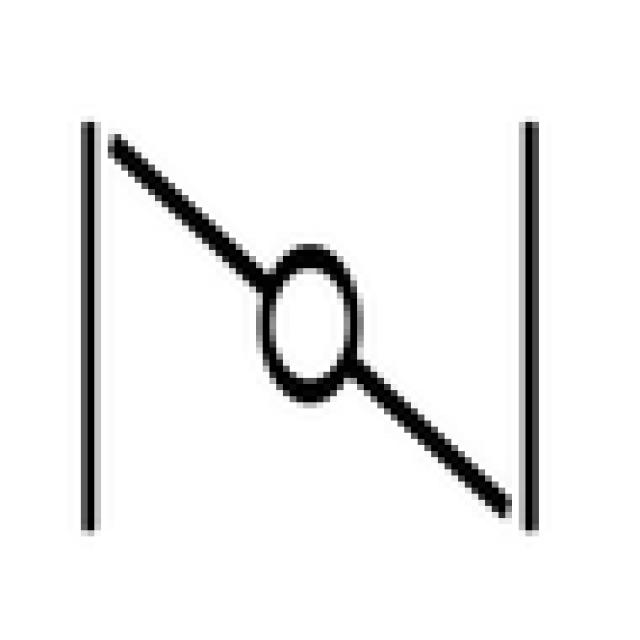Butterflyvalve: (115, 140, 499, 512)
